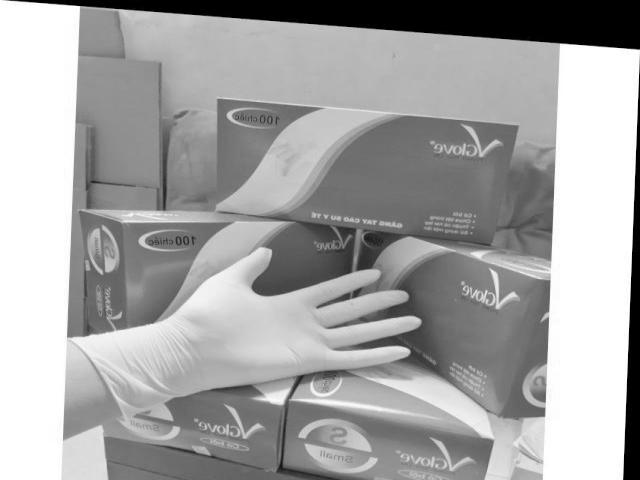gloved: (160, 246, 419, 386)
